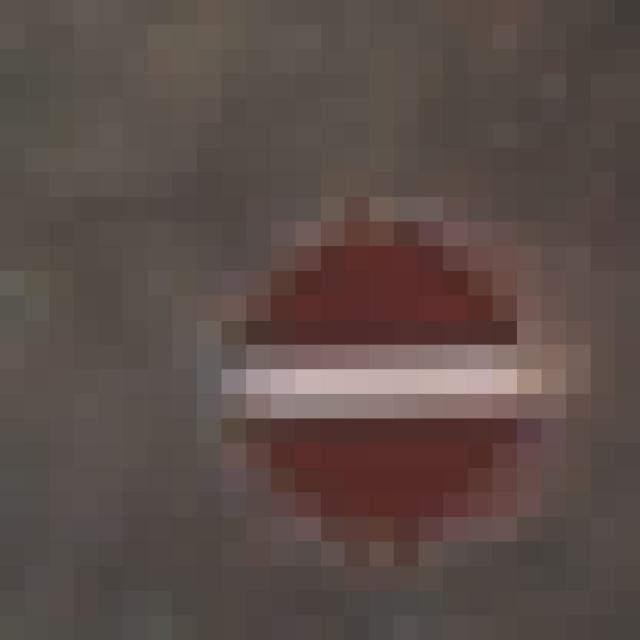No Entry: (149, 124, 518, 518)
